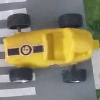carro: (4, 15, 98, 82)
